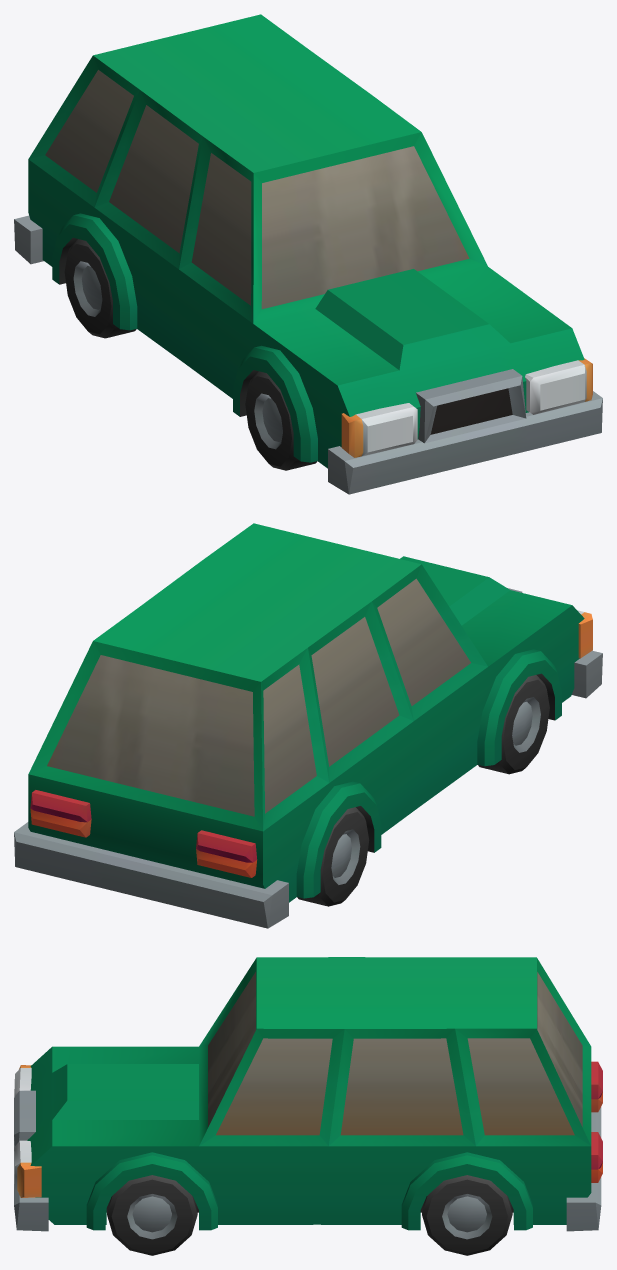
The model's file is kay-perua.gltf.
3 renders of one model, top to bottom at view 1: azimuth 30°, elevation 25°; view 2: azimuth 150°, elevation 25°; view 3: azimuth 270°, elevation 25°, orthographic. The views are drawn at different scales.
Visible parts, largest first — view 1: car_stationwagon; view 2: car_stationwagon; view 3: car_stationwagon.
Boxes of the visible parts, x1,y1,x2,y2 form: car_stationwagon: [14, 14, 602, 494]; car_stationwagon: [14, 523, 602, 928]; car_stationwagon: [14, 957, 602, 1255].
Size of the model in its own units: 2.09 by 1.84 by 4.69.
1 material, 1 textured.
